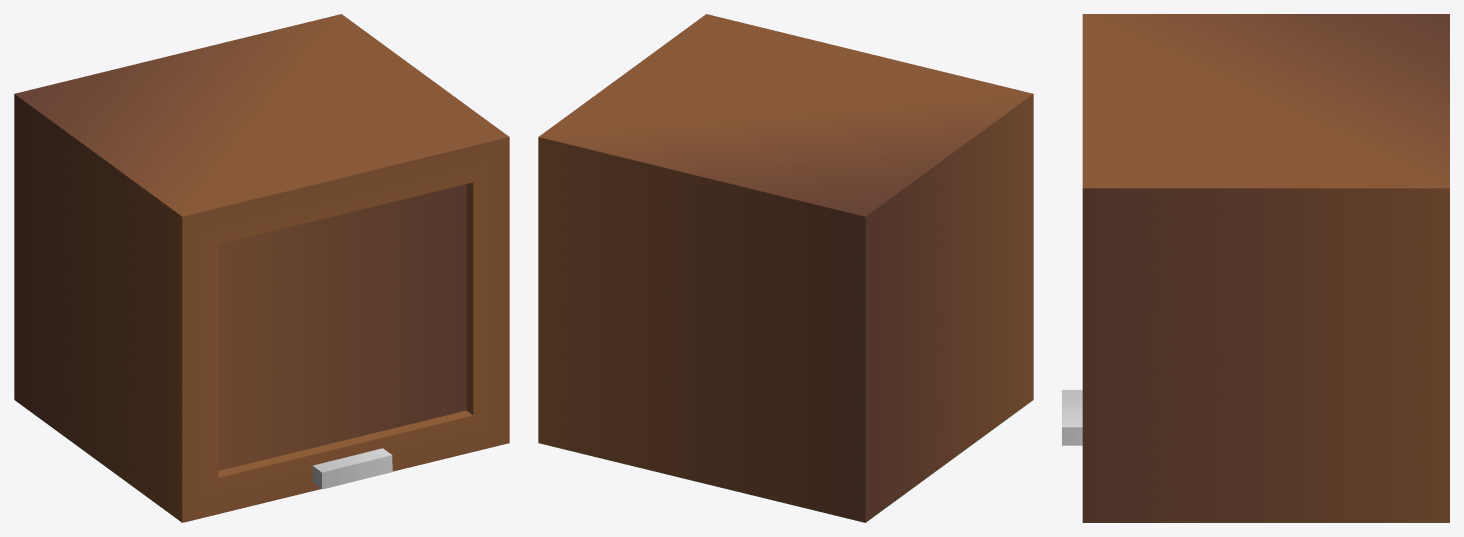
The model's file is cabinet2.FBX.
3 renders of one model, left to right at view 1: azimuth 30°, elevation 25°; view 2: azimuth 150°, elevation 25°; view 3: azimuth 270°, elevation 25°, orthographic. The views are drawn at different scales.
Parts seen in each view (by area): view 1: cabine2; view 2: cabine2; view 3: cabine2.
Boxes of the visible parts, bbox=[...] form: cabine2: bbox=[14, 14, 509, 522]; cabine2: bbox=[538, 14, 1033, 522]; cabine2: bbox=[1062, 14, 1449, 522].
Bounding box in the file's own units: 70 × 62.6 × 65.78.
Materials: 1 (1 with a texture image).
